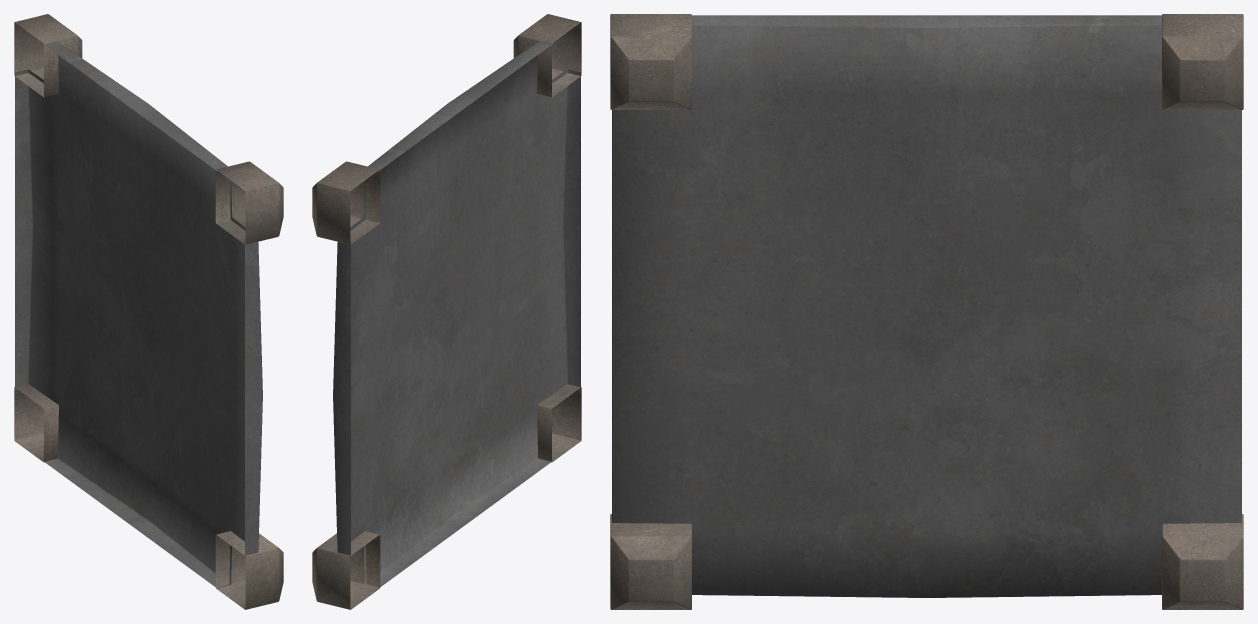
The model's file is cP_Pathway01_v02_Intersection.dae.
The picture shows the model from 3 angles, left to right: view 1: azimuth 30°, elevation 25°; view 2: azimuth 150°, elevation 25°; view 3: azimuth 270°, elevation 25°; orthographic projection. The views are drawn at different scales.
Parts seen in each view (by area): view 1: cP_Pathway01_v02_Intersection.001; view 2: cP_Pathway01_v02_Intersection.001; view 3: cP_Pathway01_v02_Intersection.001.
Part boxes in pixels (bbox=[...]): cP_Pathway01_v02_Intersection.001: bbox=[14, 14, 283, 609]; cP_Pathway01_v02_Intersection.001: bbox=[312, 14, 581, 609]; cP_Pathway01_v02_Intersection.001: bbox=[610, 14, 1243, 609].
Bounding box in the file's own units: 0.2252 × 2.01 × 2.01.
